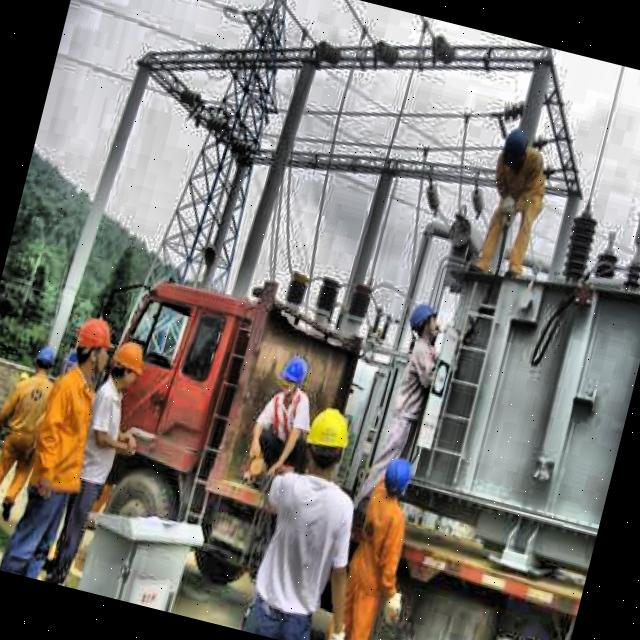helmet: (294, 398, 358, 482), (68, 312, 118, 379), (101, 334, 150, 396), (376, 454, 416, 508), (402, 300, 450, 344), (272, 352, 310, 400), (496, 125, 532, 175), (28, 341, 59, 386)
